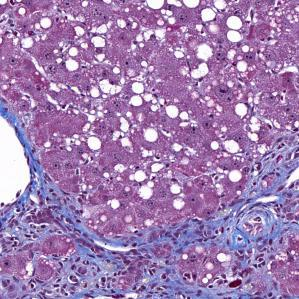fibrosis: (99, 235, 206, 299), (240, 156, 299, 264), (25, 180, 70, 299)
